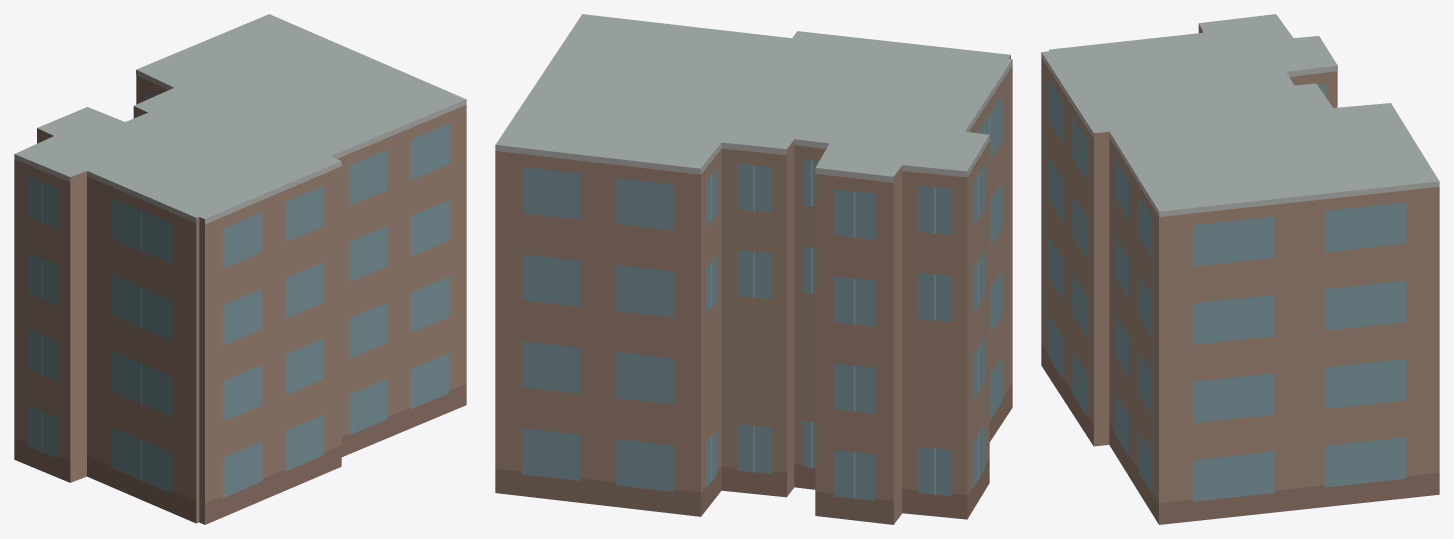
The model's file is survey-upis-33003461.glb.
3 views of the same model, side by side, from view 1: azimuth 30°, elevation 25°; view 2: azimuth 150°, elevation 25°; view 3: azimuth 270°, elevation 25° (orthographic). The views are drawn at different scales.
Visible parts, largest first — view 1: survey-upis-33003461.tmp; view 2: survey-upis-33003461.tmp; view 3: survey-upis-33003461.tmp.
Part boxes in pixels (x1,y1,x2,y2): survey-upis-33003461.tmp: (14, 14, 466, 524); survey-upis-33003461.tmp: (495, 14, 1012, 524); survey-upis-33003461.tmp: (1041, 14, 1439, 524).
Bounding box in the file's own units: 19.09 × 14.1 × 16.25.
